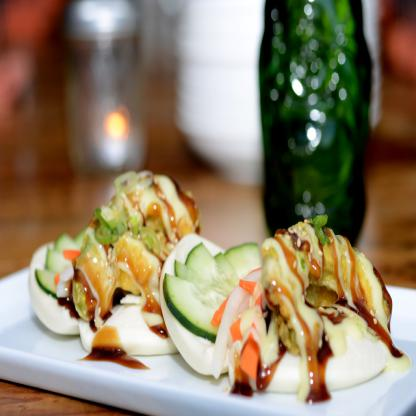Cucumber: (163, 240, 263, 340), (162, 274, 230, 343), (34, 227, 88, 297)
